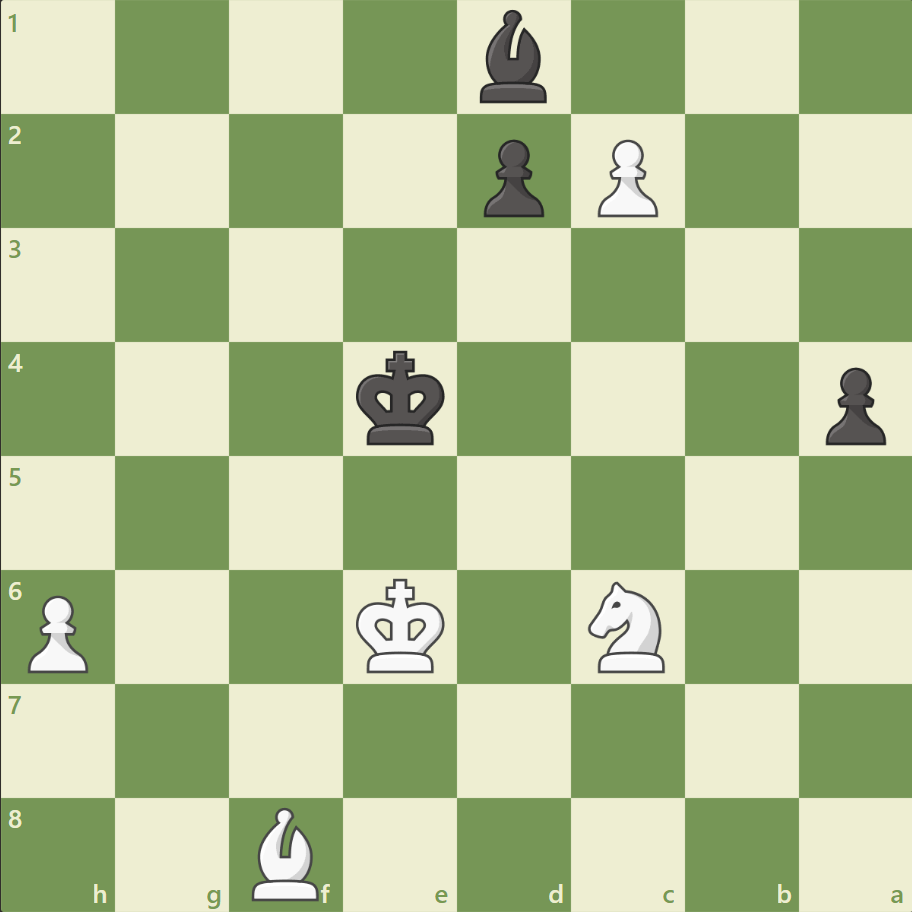B: (244, 801, 328, 904)
K: (351, 571, 451, 679)
N: (579, 575, 676, 677)
P: (20, 586, 95, 677), (588, 132, 662, 223)
b: (471, 6, 555, 109)
k: (351, 344, 451, 452)
p: (474, 132, 549, 223), (815, 359, 889, 450)
